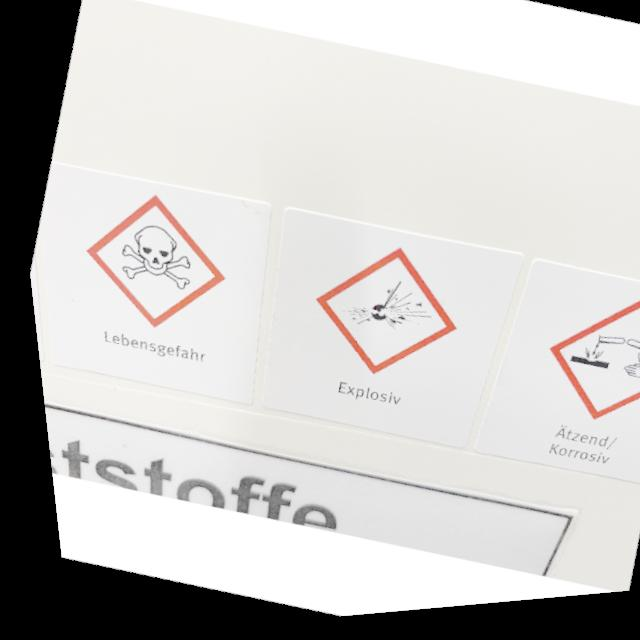acute toxicity: (104, 214, 199, 301)
corrosive: (554, 329, 640, 401)
explosive: (326, 270, 432, 354)
